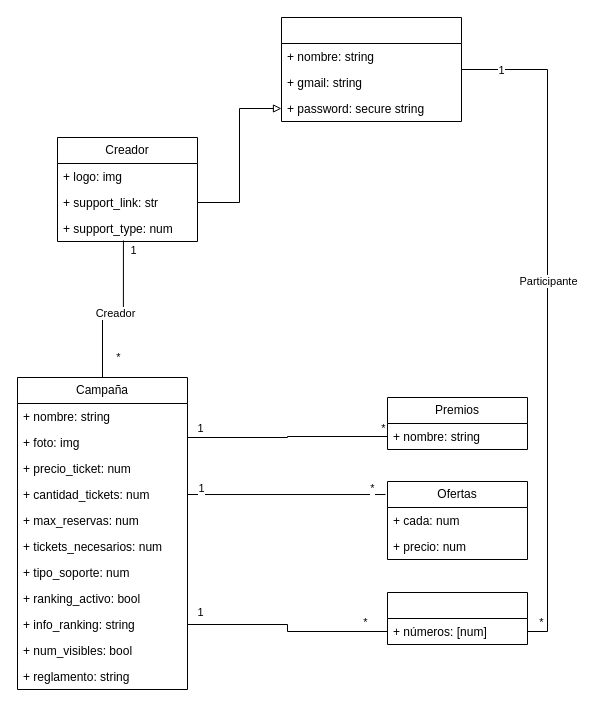
This 594x710 diagram has some shape labels left out. Each missing label, with the box of its shape:
Compra: (386, 592, 528, 644)
User: (280, 16, 462, 122)
